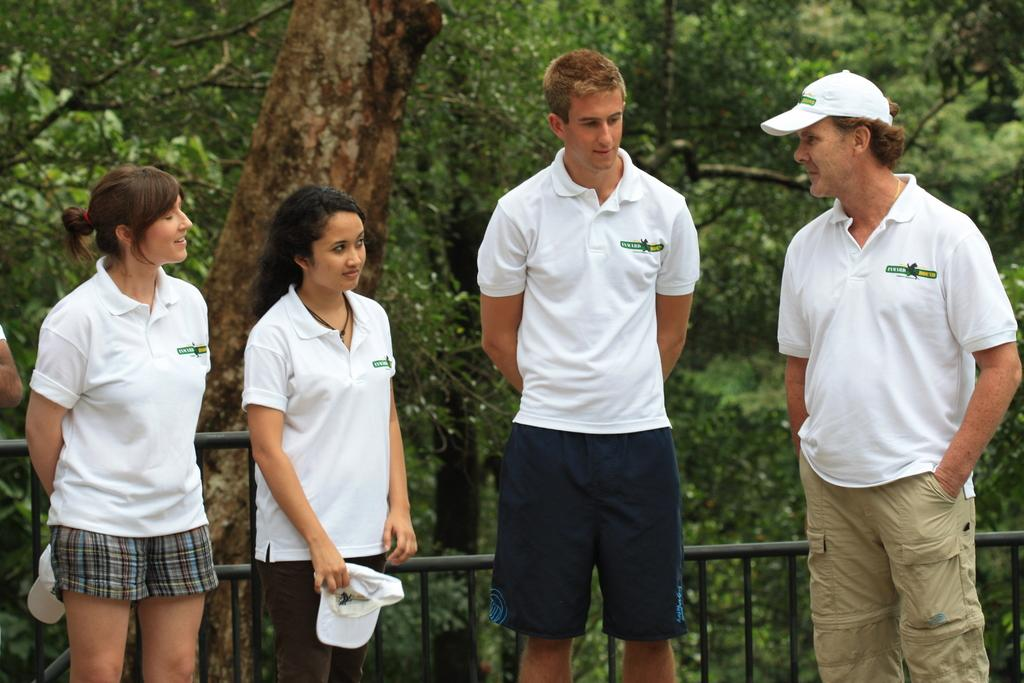Hat: (760, 67, 894, 140), (315, 558, 408, 650), (25, 545, 67, 625)
